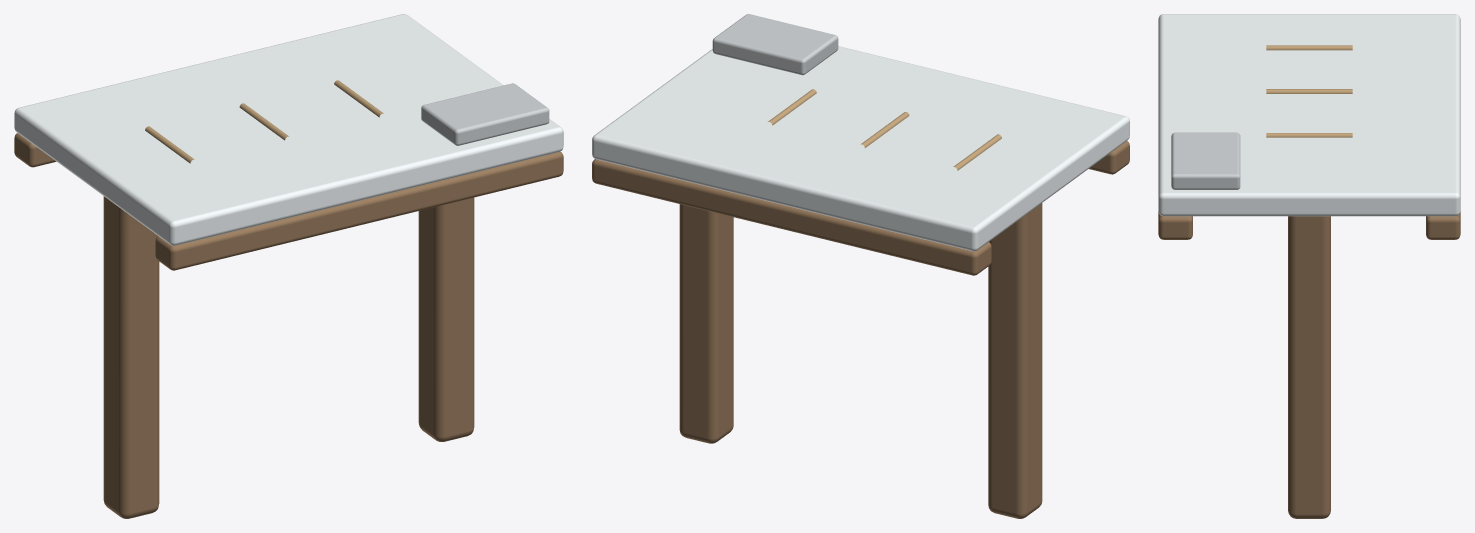
Rendered from geotechnical-soil-testing-laboratory-plastic-limit-rol-c9e42418__39061.glb.
The picture shows the model from 3 angles, left to right: view 1: azimuth 30°, elevation 25°; view 2: azimuth 150°, elevation 25°; view 3: azimuth 270°, elevation 25°; orthographic projection. The views are drawn at different scales.
Visible parts, largest first — view 1: plastic-limit-rolling-plate; view 2: plastic-limit-rolling-plate; view 3: plastic-limit-rolling-plate.
Boxes of the visible parts, x1=… form: plastic-limit-rolling-plate: x1=14, y1=14, x2=563, y2=518; plastic-limit-rolling-plate: x1=592, y1=14, x2=1129, y2=518; plastic-limit-rolling-plate: x1=1158, y1=14, x2=1460, y2=518.
Bounding box in the file's own units: 0.5 × 0.45 × 0.35.
